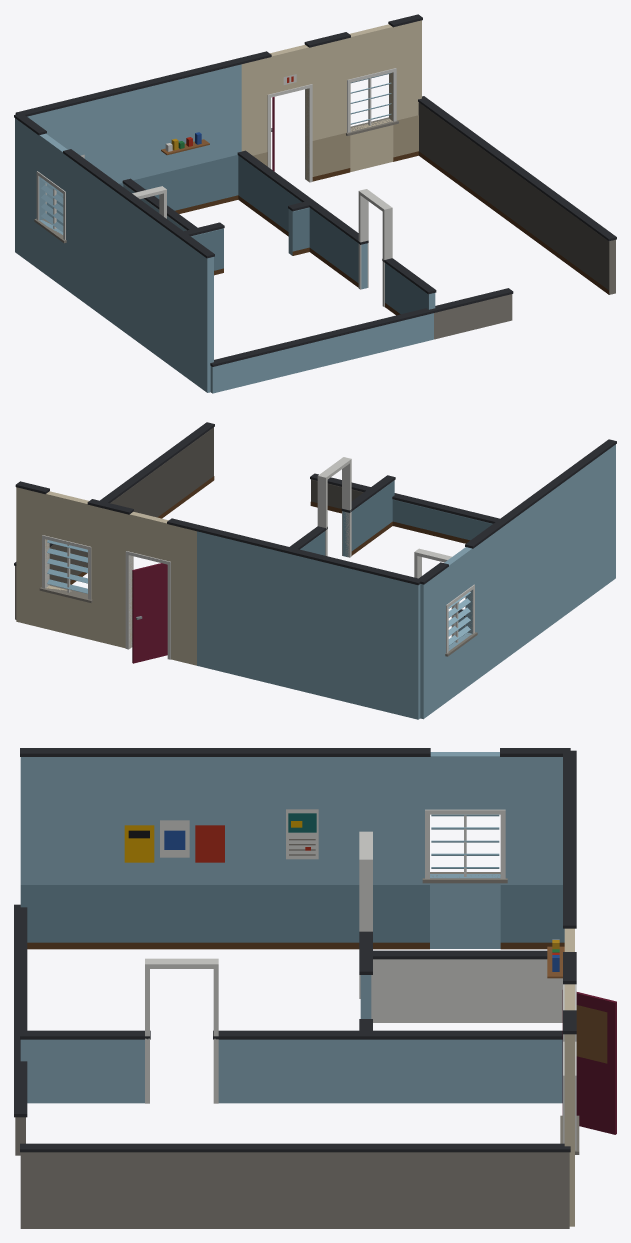
The model's file is bld_home-room-house.1b21d2d382bc.glb.
The picture shows the model from 3 angles, top to bottom: view 1: azimuth 30°, elevation 25°; view 2: azimuth 150°, elevation 25°; view 3: azimuth 270°, elevation 25°; orthographic projection. The views are drawn at different scales.
Visible parts, largest first — view 1: body; view 2: body; view 3: body.
Part boxes in pixels (box(x1,y1,x2,y2)): body: box(14, 14, 616, 393); body: box(14, 422, 616, 719); body: box(14, 748, 616, 1228).
Size of the model in its own units: 9.58 by 3.05 by 8.51.
